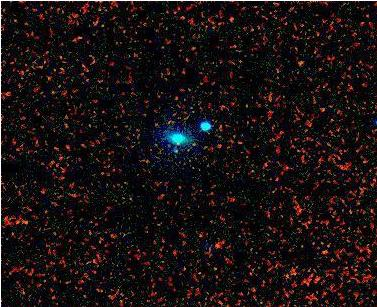star: (201, 229, 231, 259)
